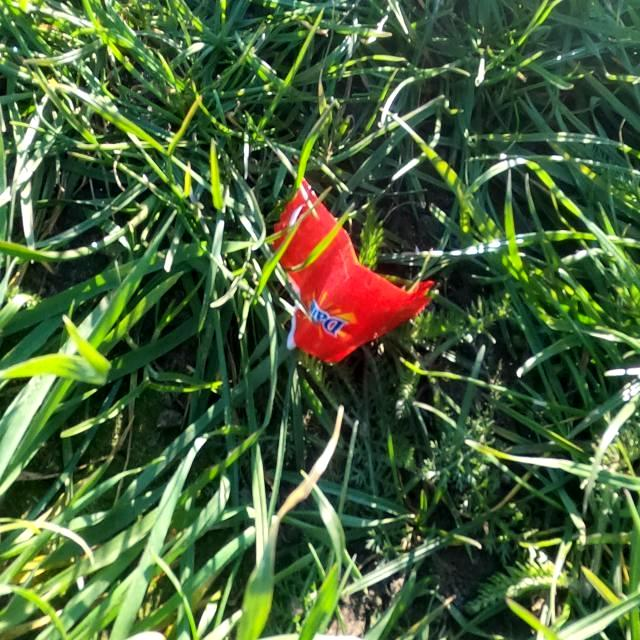Plastic: (268, 176, 436, 366)
